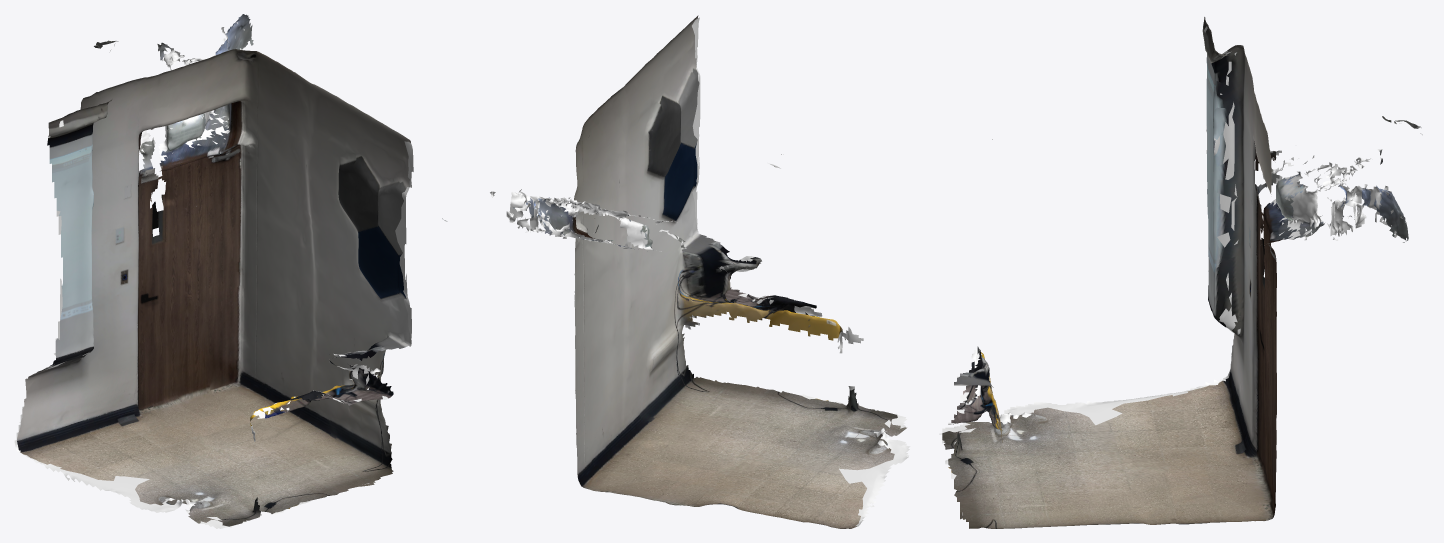
3 views of the same model, side by side, from view 1: azimuth 30°, elevation 25°; view 2: azimuth 150°, elevation 25°; view 3: azimuth 270°, elevation 25° (orthographic). The views are drawn at different scales.
Parts seen in each view (by area): view 1: texture_0, texture_2, texture_1, object 1; view 2: texture_0, texture_2, texture_1, object 1; view 3: texture_2, texture_0, texture_1, object 1.
Part boxes in pixels (left/top/right/bottom): texture_0: left=25, top=14, right=411, bottom=505; texture_2: left=17, top=40, right=410, bottom=480; texture_1: left=166, top=390, right=392, bottom=526; object 1: left=14, top=22, right=413, bottom=528; texture_0: left=442, top=21, right=894, bottom=505; texture_2: left=513, top=15, right=866, bottom=528; texture_1: left=670, top=295, right=906, bottom=450; object 1: left=490, top=17, right=910, bottom=526; texture_2: left=992, top=17, right=1422, bottom=471; texture_0: left=948, top=149, right=1408, bottom=528; texture_1: left=942, top=352, right=1104, bottom=528; object 1: left=939, top=26, right=1420, bottom=479.
Size of the model in its own units: 2.81 by 2.92 by 3.32.
4 materials, 3 textured.
